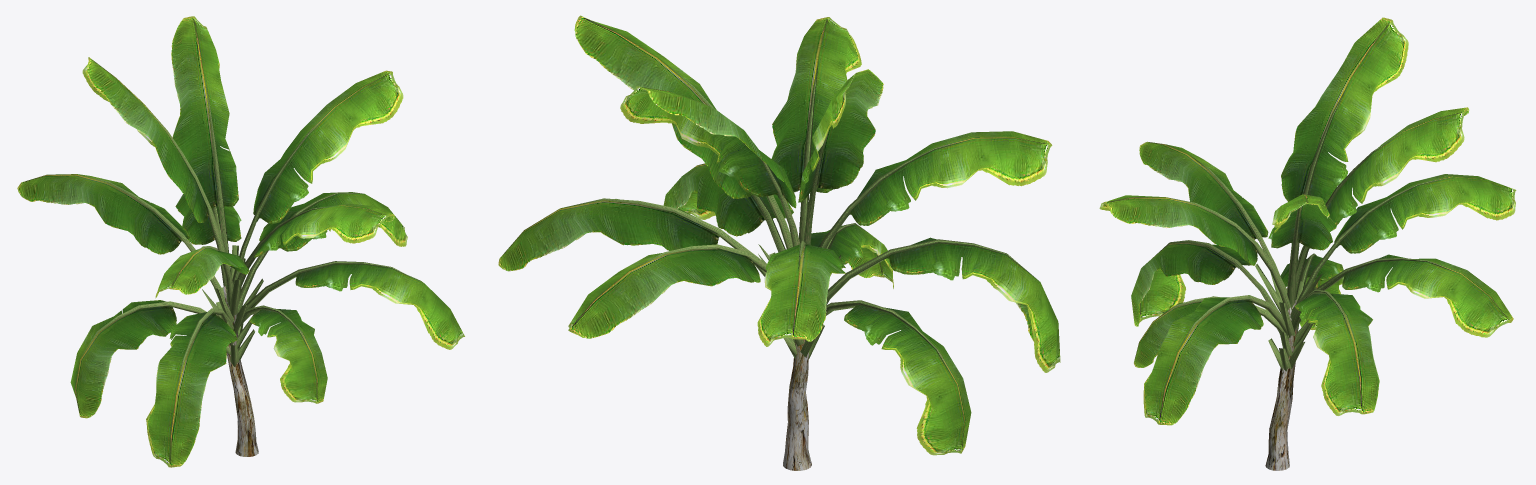
File: banana.glb
3 views of the same model, side by side, from view 1: azimuth 30°, elevation 25°; view 2: azimuth 150°, elevation 25°; view 3: azimuth 270°, elevation 25° (orthographic). The views are drawn at different scales.
Visible parts, largest first — view 1: tree.001; view 2: tree.001; view 3: tree.001.
Boxes of the visible parts, x1,y1,x2,y2 form: tree.001: (17, 16, 464, 467); tree.001: (498, 15, 1060, 470); tree.001: (1099, 17, 1516, 470).
Size of the model in its own units: 178 by 185 by 183.
3 materials, 3 textured.
